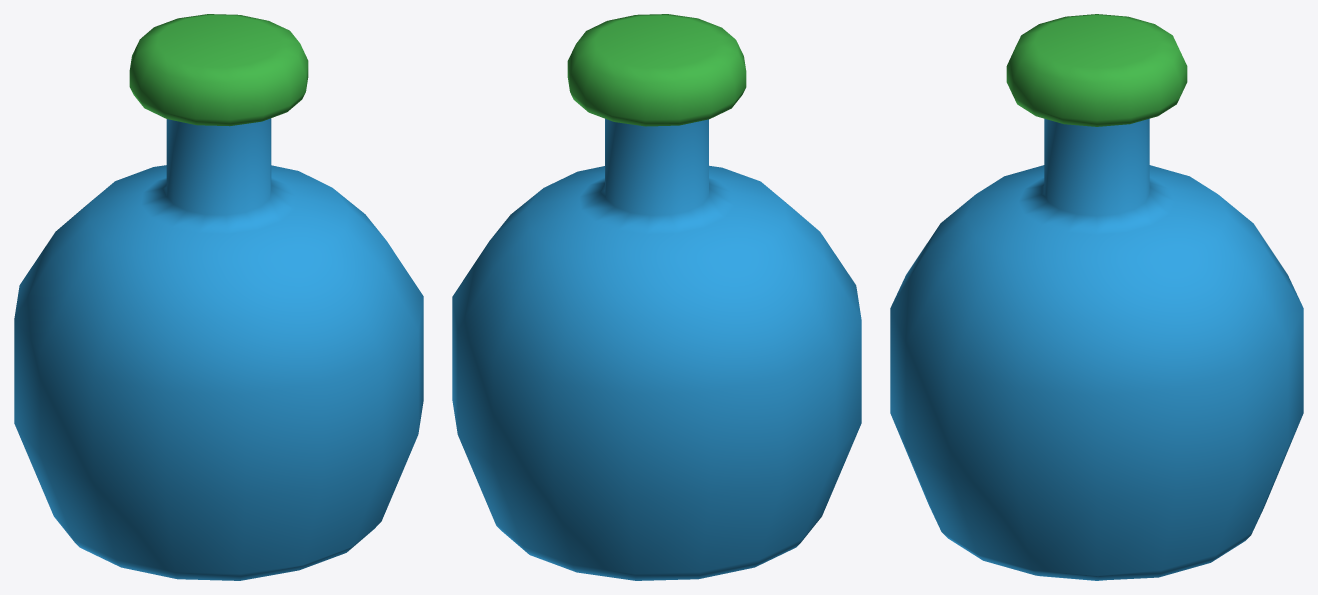
File: TwoMPotionN1.fbx
The picture shows the model from 3 angles, left to right: view 1: azimuth 30°, elevation 25°; view 2: azimuth 150°, elevation 25°; view 3: azimuth 270°, elevation 25°; orthographic projection.
Visible parts, largest first — view 1: PotionN1; view 2: PotionN1; view 3: PotionN1.
Boxes of the visible parts, left/top/right/bottom form: PotionN1: left=14, top=14, right=423, bottom=580; PotionN1: left=452, top=14, right=861, bottom=580; PotionN1: left=890, top=14, right=1303, bottom=580.
Bounding box in the file's own units: 0.1268 × 0.1607 × 0.1268.
